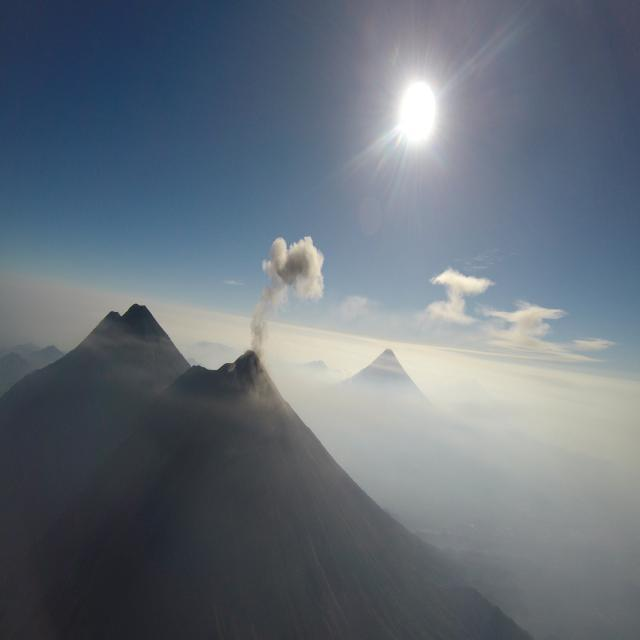Plume: (248, 230, 332, 354)
Summit: (160, 348, 274, 404)
